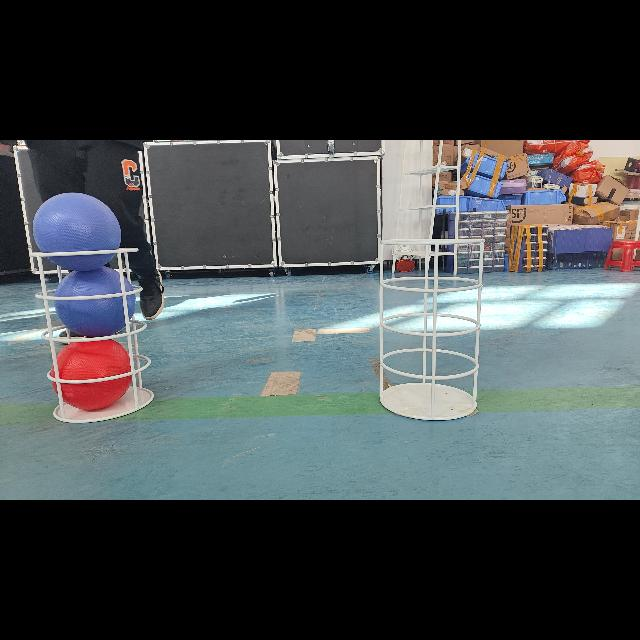B: (26, 245, 158, 429), (31, 192, 128, 272), (54, 266, 136, 336)
R: (49, 336, 131, 409)
S: (372, 236, 492, 430)
